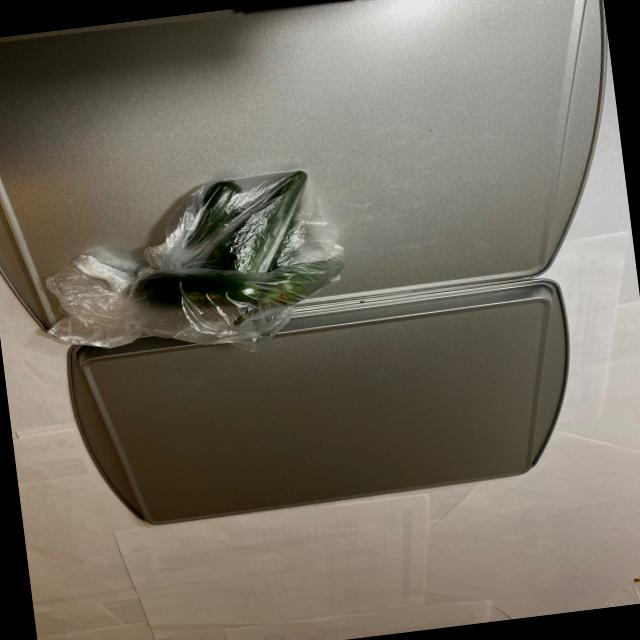chilli: (107, 154, 354, 352)
